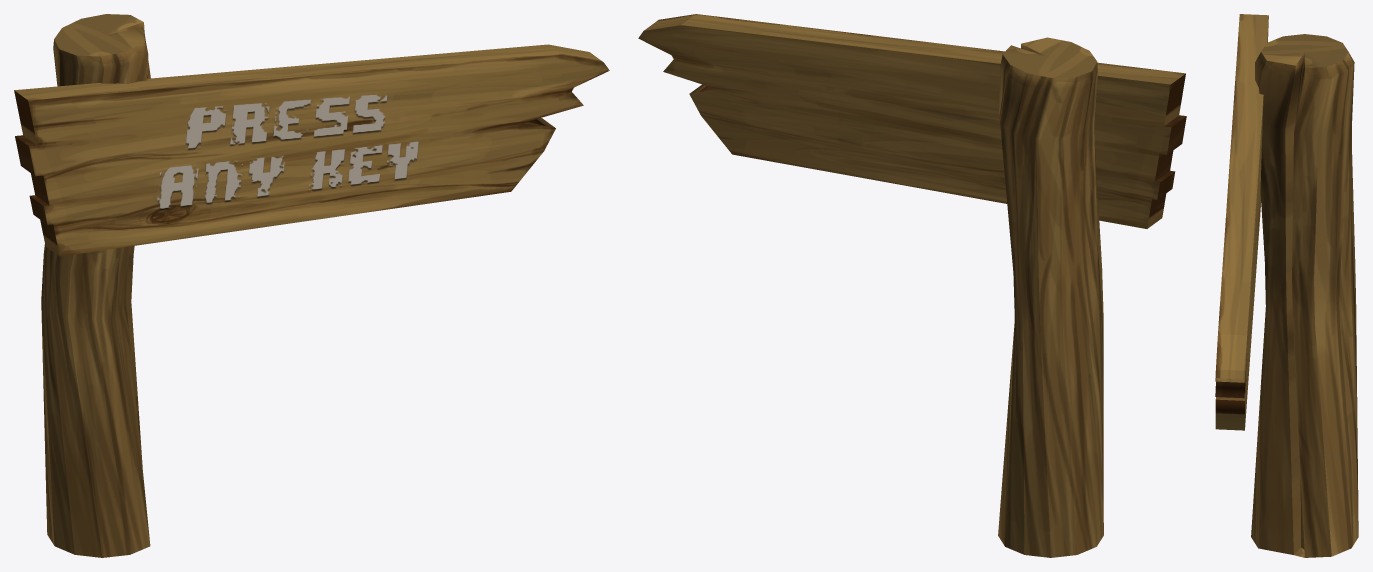
File: sign.fbx
3 renders of one model, left to right at view 1: azimuth 30°, elevation 25°; view 2: azimuth 150°, elevation 25°; view 3: azimuth 270°, elevation 25°, orthographic. The views are drawn at different scales.
Visible parts, largest first — view 1: polySurface1; view 2: polySurface1; view 3: polySurface1.
Boxes of the visible parts, bbox=[...] form: polySurface1: bbox=[14, 14, 609, 557]; polySurface1: bbox=[638, 14, 1186, 557]; polySurface1: bbox=[1215, 14, 1358, 557].
Size of the model in its own units: 17.19 by 14.48 by 3.85.
Materials: 1 (1 with a texture image).
